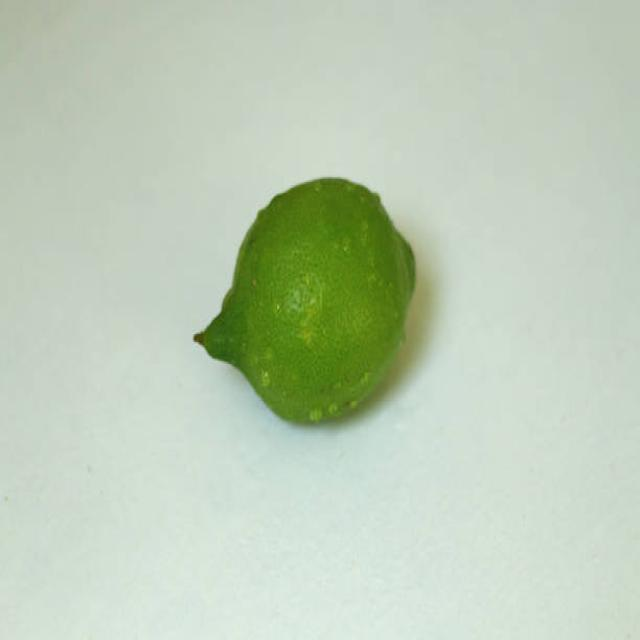Lemon: (194, 174, 417, 429)
